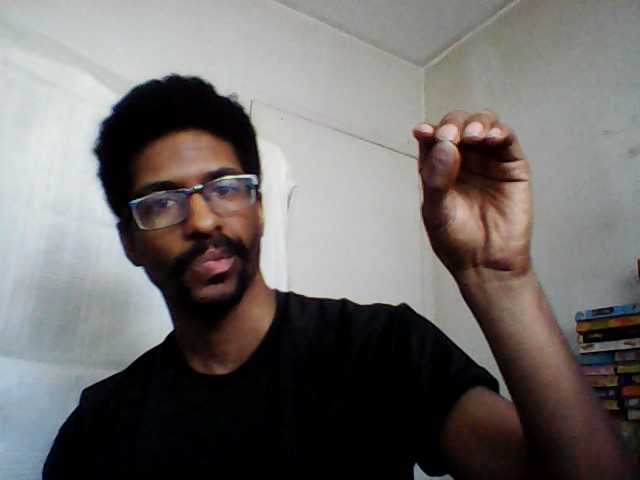o: (407, 105, 537, 274)
